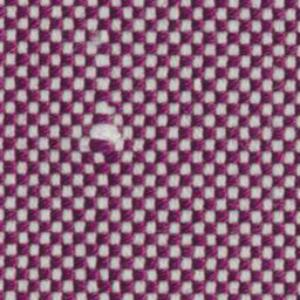defect: (80, 32, 127, 169)
